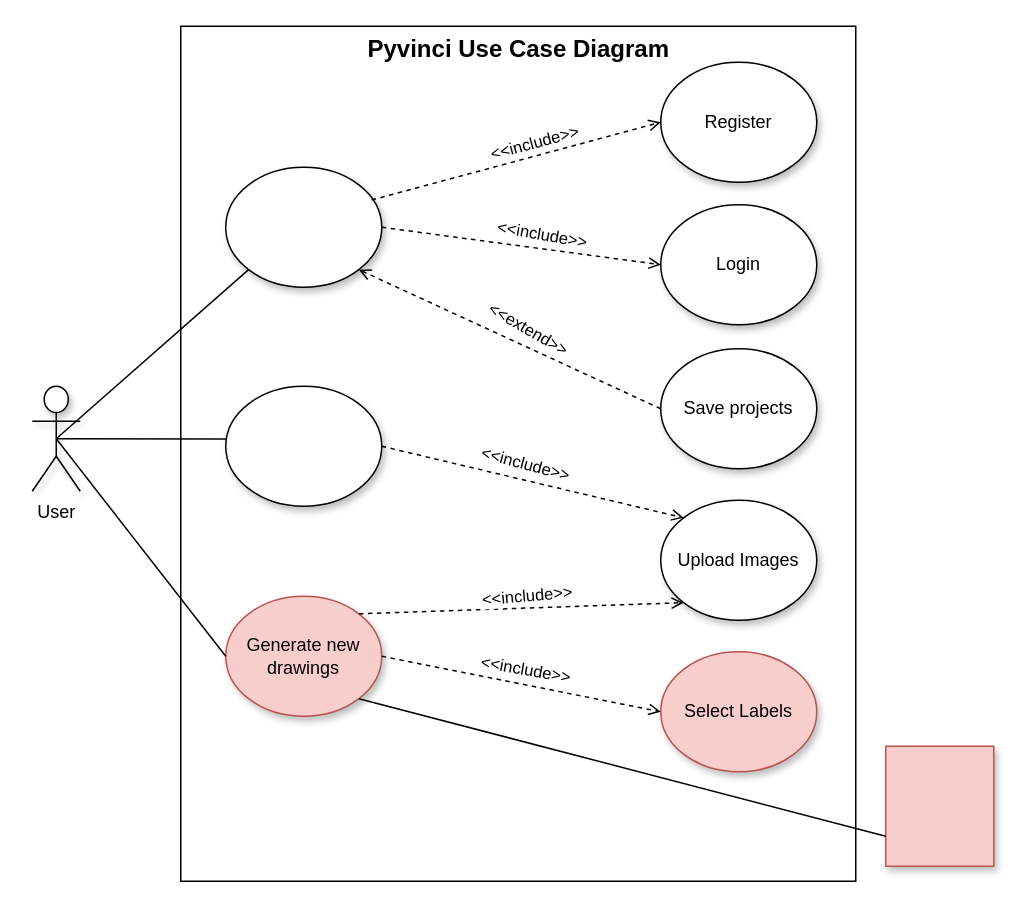
The diagram is 1029 pixels wide and 908 high, and some of its shapes have lost their labels. The shapes that lost their labels are listed below. From the top down, each one's centre as x and y in pixels, then its label:
At [304,229]: "Access personal Account".
At [304,448]: "Generate hashtags".
At [940,808]: "<<Actor>> Social Media Platform".
